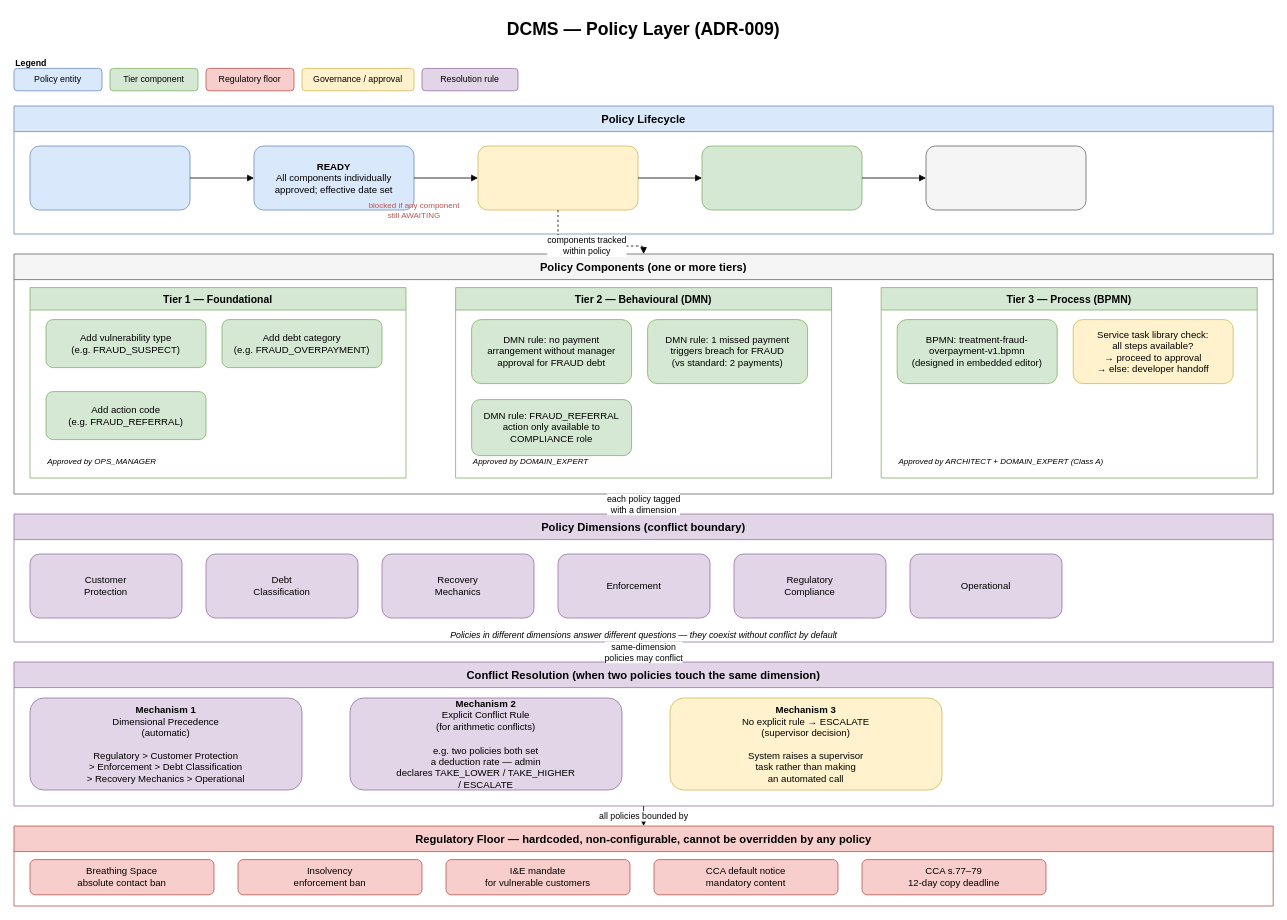
The diagram is 1287 pixels wide and 920 high, and some of its shapes have lost their labels. The shapes that lost their labels are listed below. From the top down, each one's centre as x and y in pixels, then its label:
point 109,177: DRAFT Business admin assembles components across tiers
point 557,177: APPROVED Final sign-off by OPS_MANAGER / COMPLIANCE
point 781,177: ACTIVE All components activated atomically on effective date
point 1005,177: RETIRED Policy withdrawn; components rolled back
